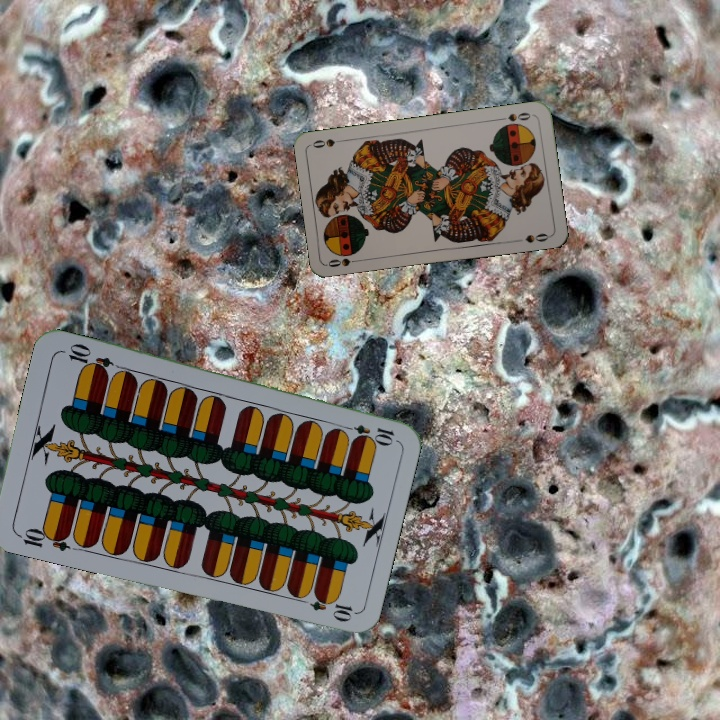E10: (13, 524, 72, 554), (338, 420, 397, 445)
SO: (324, 254, 365, 270), (495, 108, 533, 124)
